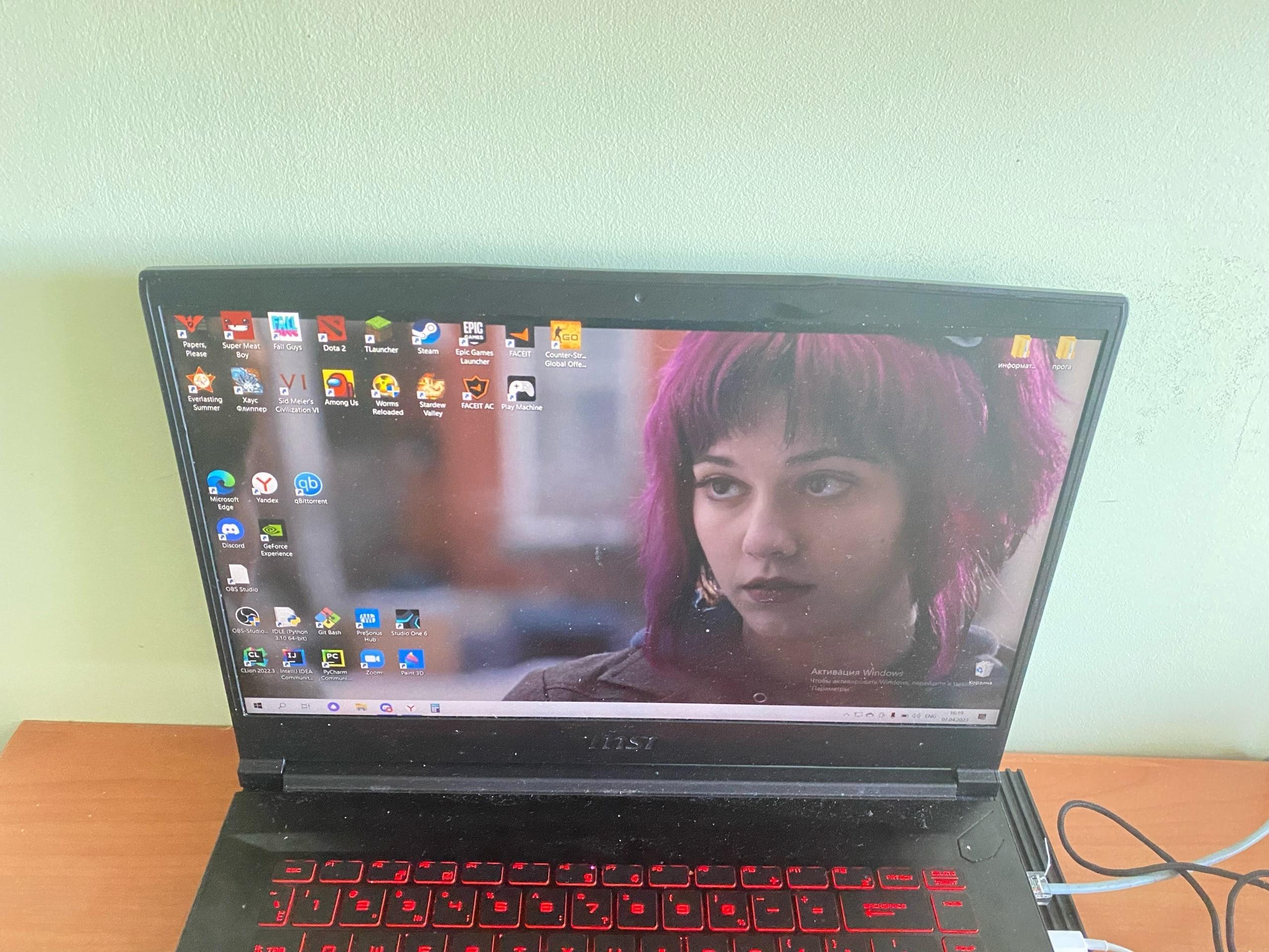monitor: (131, 256, 1130, 783)
